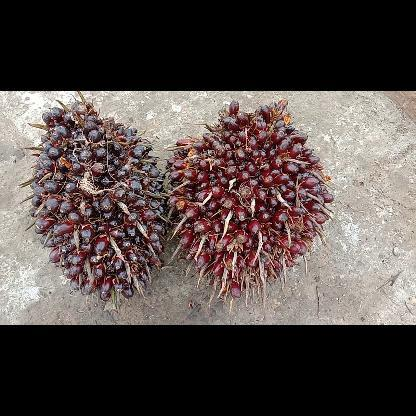Kurang masak: (29, 91, 166, 305)
TBS masak: (166, 100, 336, 294)
